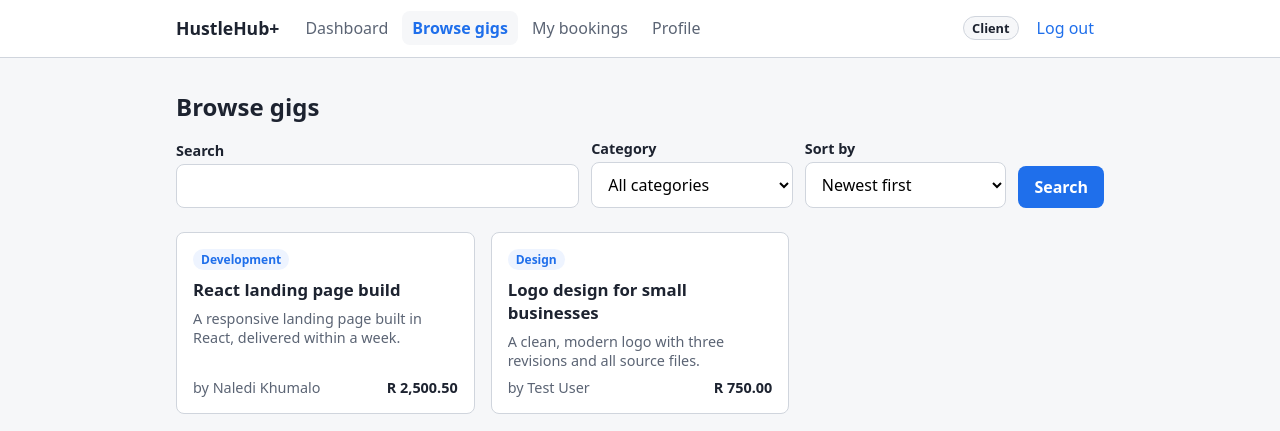
Test case: GigsPage › sends the search, category and sort to the API
Expected: the text "React landing page build" is shown, [193,278,401,301]
In the search field labelled "Search": (378,186) [176,164,579,208], type "logo"
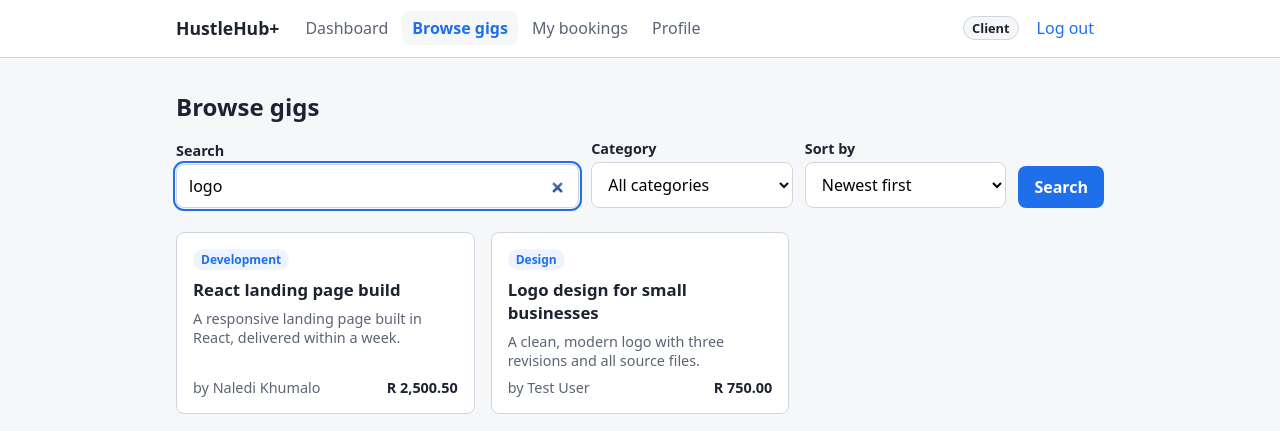
Select "Design" in the dropdown labelled "Category": (692,185) [591,162,793,208]
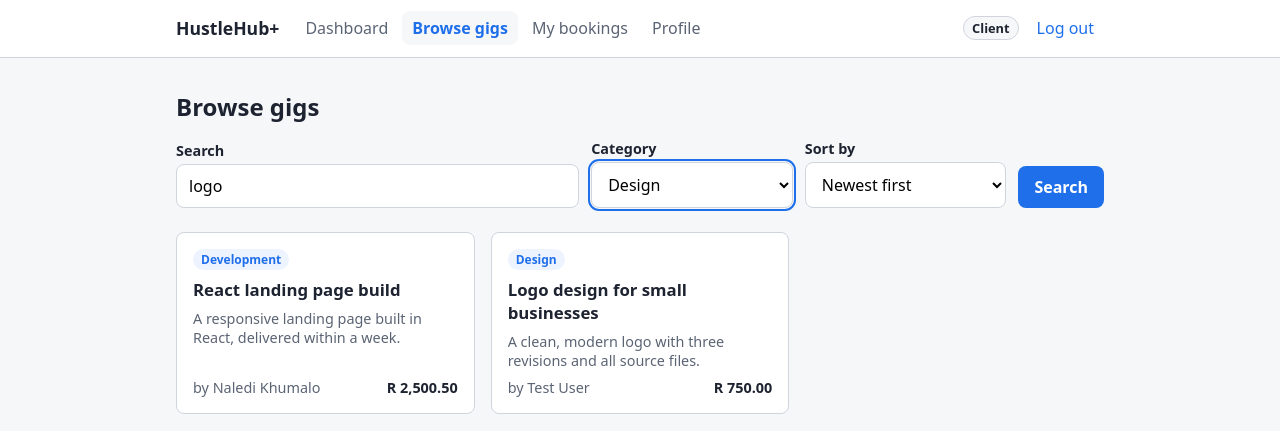
Select "Price: low to high" in the dropdown labelled "Sort by": (906,185) [805,162,1006,208]
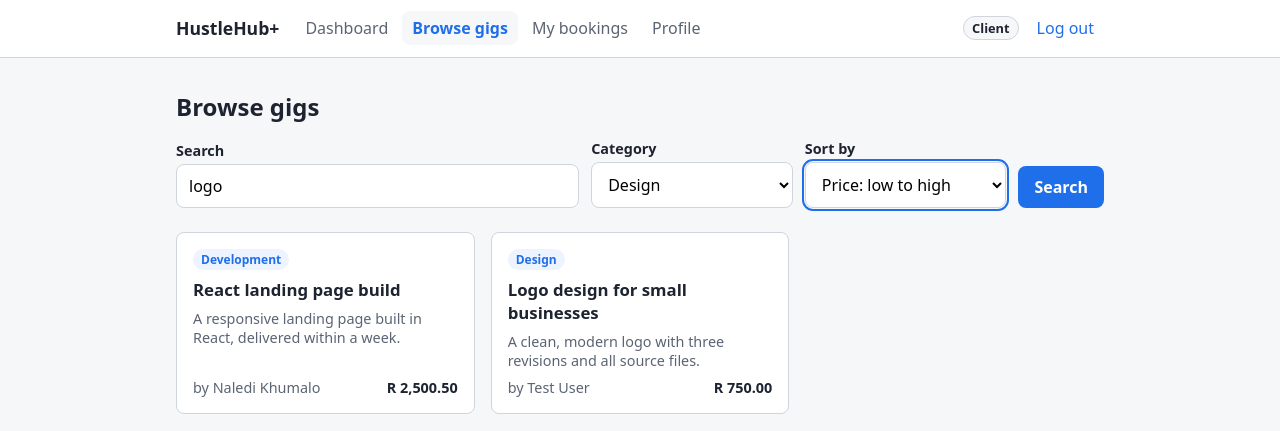
Click the button "Search": (1061,187) [1018,166,1104,208]
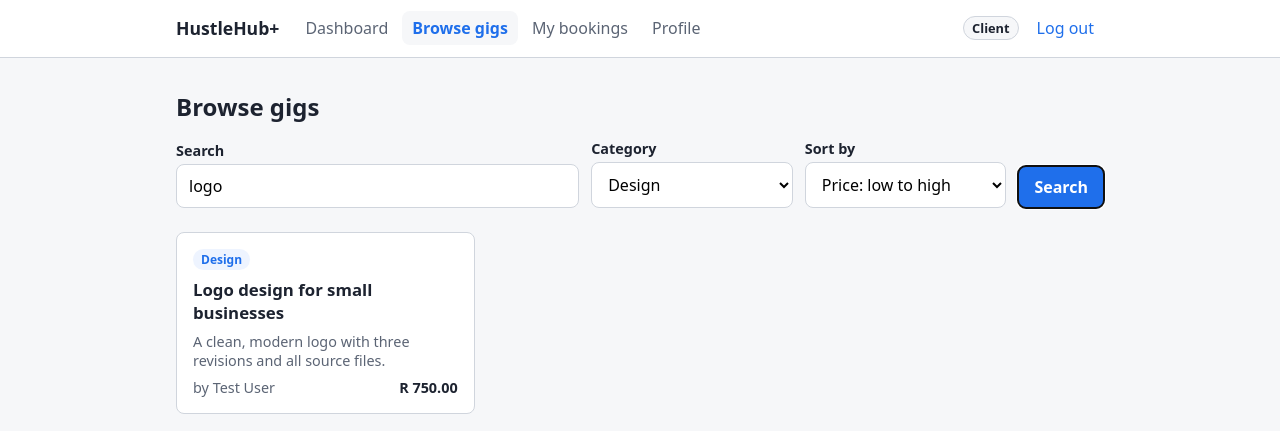
Expected: the text "Logo design for small businesses" is shown, [193,278,372,324]
Expected: the link "React landing page build" is gone
